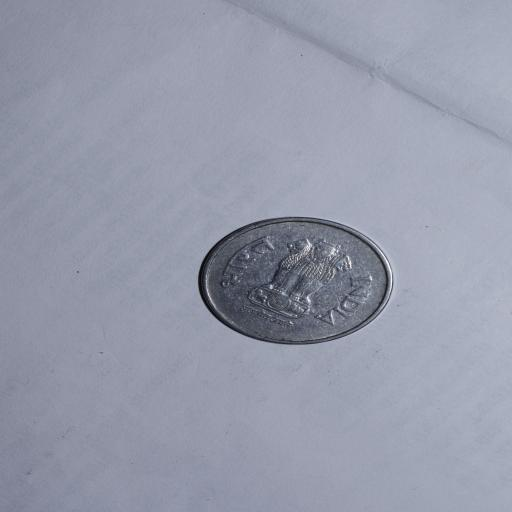rupee1: (190, 214, 395, 345)
